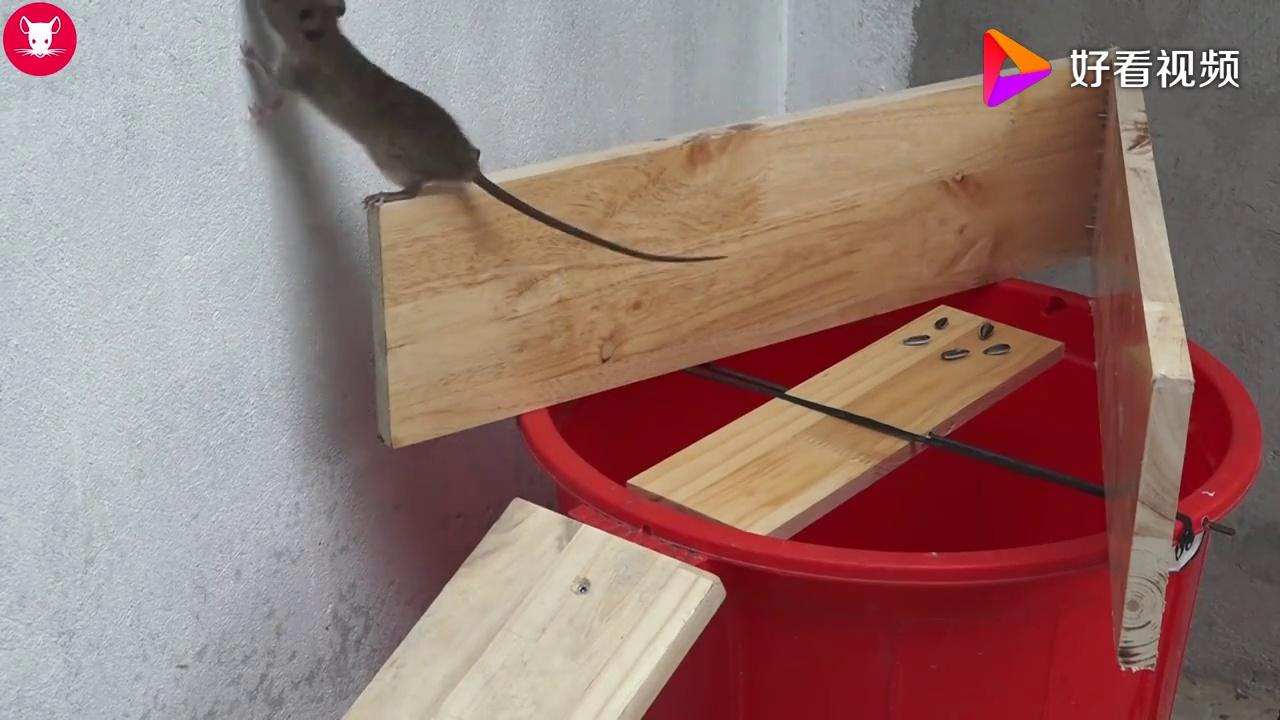rat: (230, 0, 577, 240)
